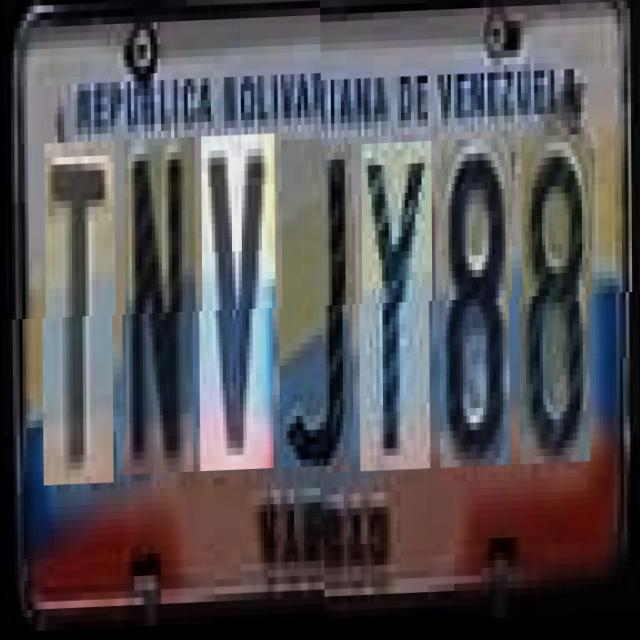8: (441, 142, 513, 472), (521, 139, 593, 469)
J: (281, 148, 353, 478)
N: (125, 146, 197, 483)
T: (45, 149, 116, 493)
V: (201, 143, 276, 480)
Y: (361, 144, 433, 474)
